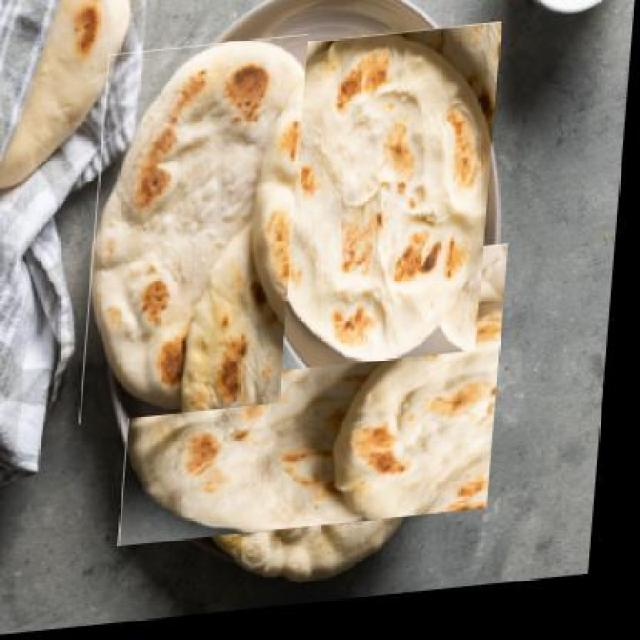chapati: (151, 231, 491, 575), (246, 32, 505, 383), (86, 40, 311, 428), (0, 0, 134, 194)
